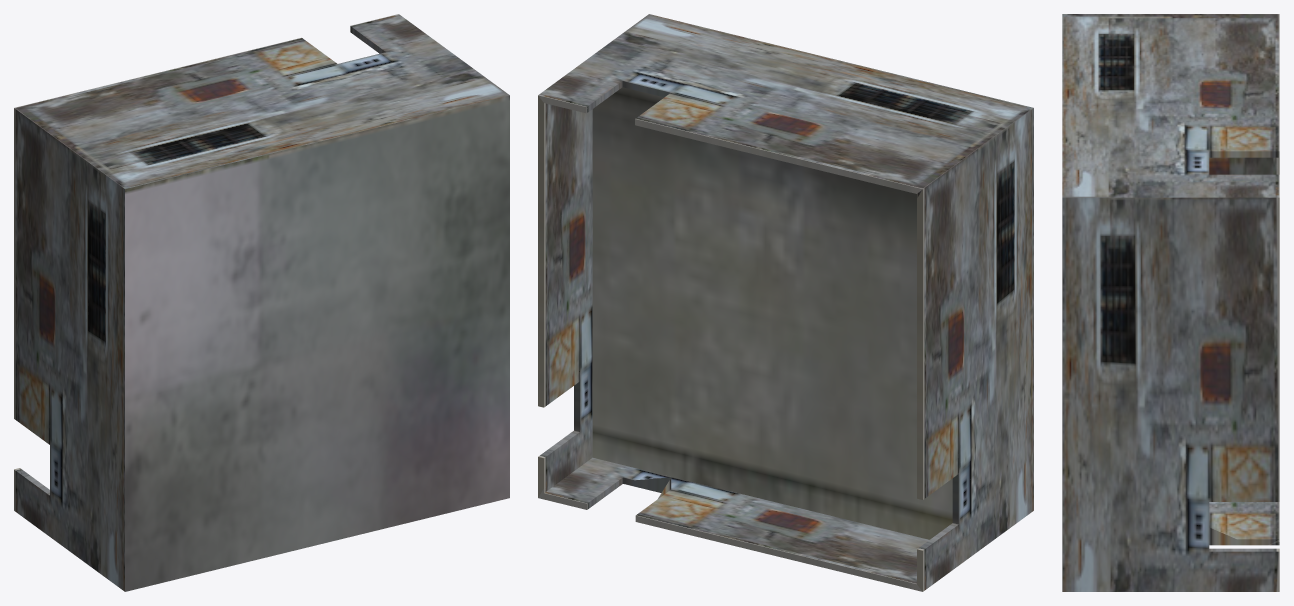
The model's file is 8x8NSEW_corners2_wtf.obj.
The picture shows the model from 3 angles, left to right: view 1: azimuth 30°, elevation 25°; view 2: azimuth 150°, elevation 25°; view 3: azimuth 270°, elevation 25°; orthographic projection. The views are drawn at different scales.
Parts seen in each view (by area): view 1: group2; view 2: group2; view 3: group2.
Boxes of the visible parts, left/top/right/bottom form: group2: left=14, top=14, right=509, bottom=591; group2: left=538, top=14, right=1033, bottom=591; group2: left=1062, top=14, right=1279, bottom=591.
Bounding box in the file's own units: 660 × 660 × 330.
